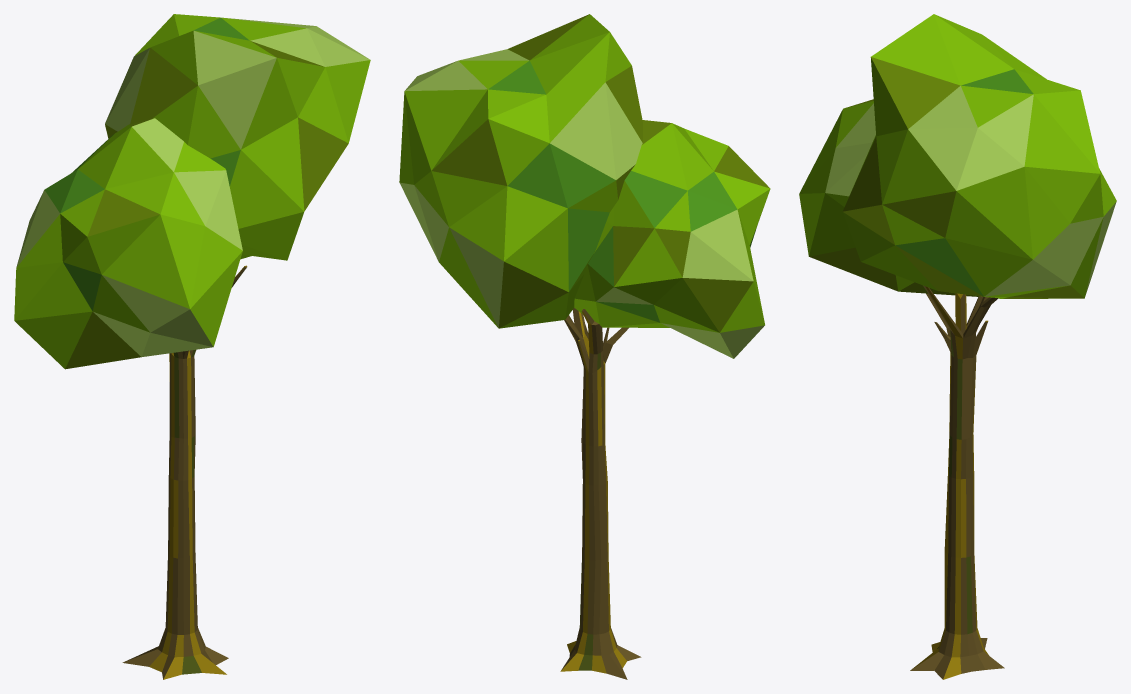
File: tree.fbx
The picture shows the model from 3 angles, left to right: view 1: azimuth 30°, elevation 25°; view 2: azimuth 150°, elevation 25°; view 3: azimuth 270°, elevation 25°; orthographic projection. The views are drawn at different scales.
Parts seen in each view (by area): view 1: leaves1, leaves1.001, trunk; view 2: leaves1.001, leaves1, trunk; view 3: leaves1.001, trunk, leaves1.
Boxes of the visible parts, x1,y1,x2,y2 form: leaves1: [14, 118, 242, 369]; leaves1.001: [105, 14, 370, 260]; trunk: [122, 265, 247, 679]; leaves1.001: [399, 14, 642, 328]; leaves1: [574, 120, 770, 358]; trunk: [560, 308, 641, 679]; leaves1.001: [842, 14, 1116, 298]; trunk: [910, 285, 1004, 679]; leaves1: [799, 99, 978, 296].
Bounding box in the file's own units: 25.43 × 43.44 × 19.36.
